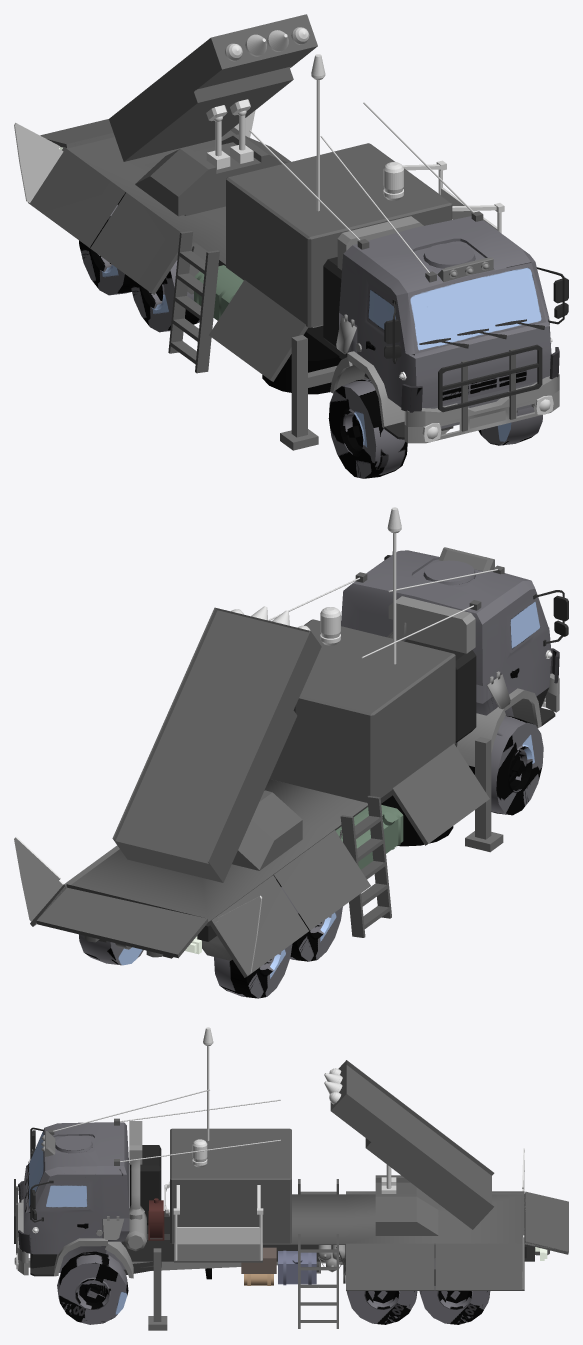
Rendered from everything-not-deployed.fbx.
3 renders of one model, top to bottom at view 1: azimuth 30°, elevation 25°; view 2: azimuth 150°, elevation 25°; view 3: azimuth 270°, elevation 25°, orthographic. The views are drawn at different scales.
Visible parts, largest first — view 1: Куб.131, Куб.136, Cube, Cube.002, Цилиндр.051, Cube.001, Cube.008, Куб.096, Cube.016, Cube.011, Cube.007, Цилиндр.053 (+17 smaller); view 2: Cube.002, Куб.136, Cube, Куб.131, Цилиндр.051, Cube.008, Цилиндр.059, Cube.001, Цилиндр.001, Cube.015, Cube.010, Cube.011 (+10 smaller); view 3: Куб.136, Куб.131, Cube, Cube.002, Цилиндр.051, Cube.001, Цилиндр.001, Цилиндр.053, Цилиндр.059, Куб.118, Cube.018, Cube.015 (+16 smaller).
Boxes of the visible parts, x1=… form: Куб.131: x1=339, y1=216, x2=559, y2=428; Куб.136: x1=28, y1=119, x2=323, y2=381; Cube: x1=226, y1=143, x2=452, y2=327; Cube.002: x1=109, y1=14, x2=317, y2=161; Цилиндр.051: x1=328, y1=379, x2=542, y2=478; Cube.001: x1=135, y1=134, x2=290, y2=216; Cube.008: x1=168, y1=231, x2=219, y2=373; Куб.096: x1=404, y1=374, x2=559, y2=443; Cube.016: x1=280, y1=335, x2=337, y2=450; Cube.011: x1=14, y1=122, x2=63, y2=202; Cube.007: x1=438, y1=344, x2=542, y2=412; Цилиндр.053: x1=129, y1=260, x2=199, y2=332; Cube.002: x1=112, y1=607, x2=321, y2=882; Куб.136: x1=30, y1=743, x2=489, y2=977; Cube: x1=269, y1=619, x2=455, y2=802; Куб.131: x1=341, y1=550, x2=559, y2=743; Цилиндр.051: x1=469, y1=716, x2=543, y2=815; Cube.008: x1=340, y1=795, x2=391, y2=937; Цилиндр.059: x1=387, y1=596, x2=475, y2=653; Cube.001: x1=232, y1=790, x2=302, y2=870; Цилиндр.001: x1=79, y1=934, x2=292, y2=998; Cube.015: x1=404, y1=639, x2=476, y2=742; Cube.010: x1=14, y1=836, x2=63, y2=924; Cube.011: x1=214, y1=895, x2=262, y2=974; Куб.136: x1=174, y1=1191, x2=568, y2=1290; Куб.131: x1=18, y1=1122, x2=129, y2=1272; Cube: x1=170, y1=1128, x2=291, y2=1243; Cube.002: x1=330, y1=1060, x2=494, y2=1229; Цилиндр.051: x1=57, y1=1251, x2=128, y2=1324; Cube.001: x1=375, y1=1175, x2=438, y2=1235; Цилиндр.001: x1=419, y1=1258, x2=490, y2=1324; Цилиндр.053: x1=346, y1=1291, x2=417, y2=1324; Цилиндр.059: x1=124, y1=1121, x2=146, y2=1251; Куб.118: x1=121, y1=1211, x2=534, y2=1274; Cube.018: x1=176, y1=1227, x2=260, y2=1244; Cube.015: x1=129, y1=1145, x2=161, y2=1225.
Size of the model in its own units: 750 by 1019 by 2012.
66 materials, 2 textured.
